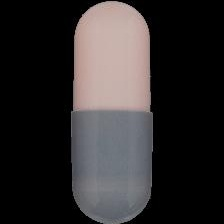42254-227: (0, 0, 224, 224)
